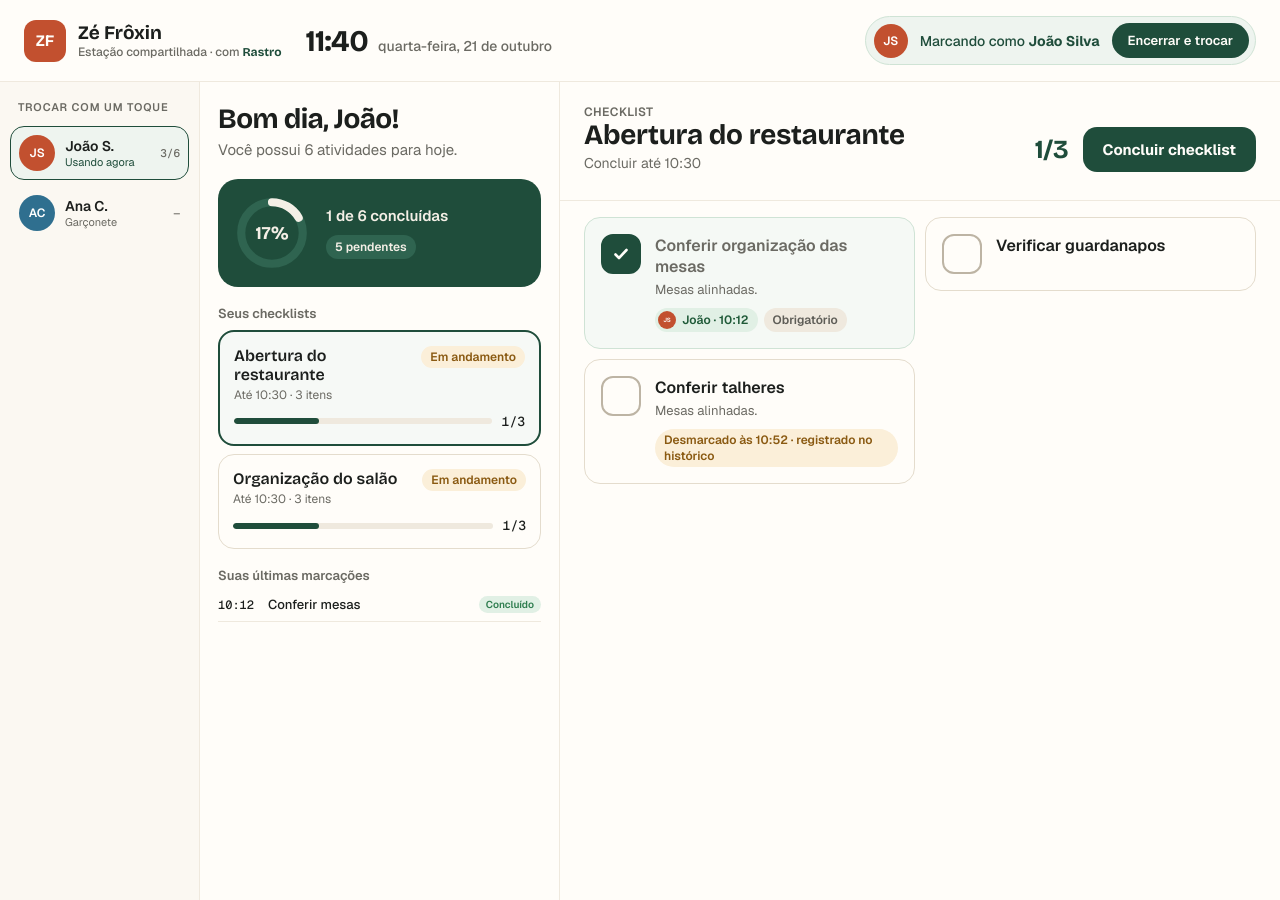
Scenario: US10 — estação de trabalho › selecionar outro checklist carrega a execução dele (sucesso)
The width and height of the screenshot is (1280, 900).
Click the button "Organização do salão Até 10:30 · 3 itens Em andamento 1/3" at (315, 478), box left=218, top=454, right=541, bottom=549
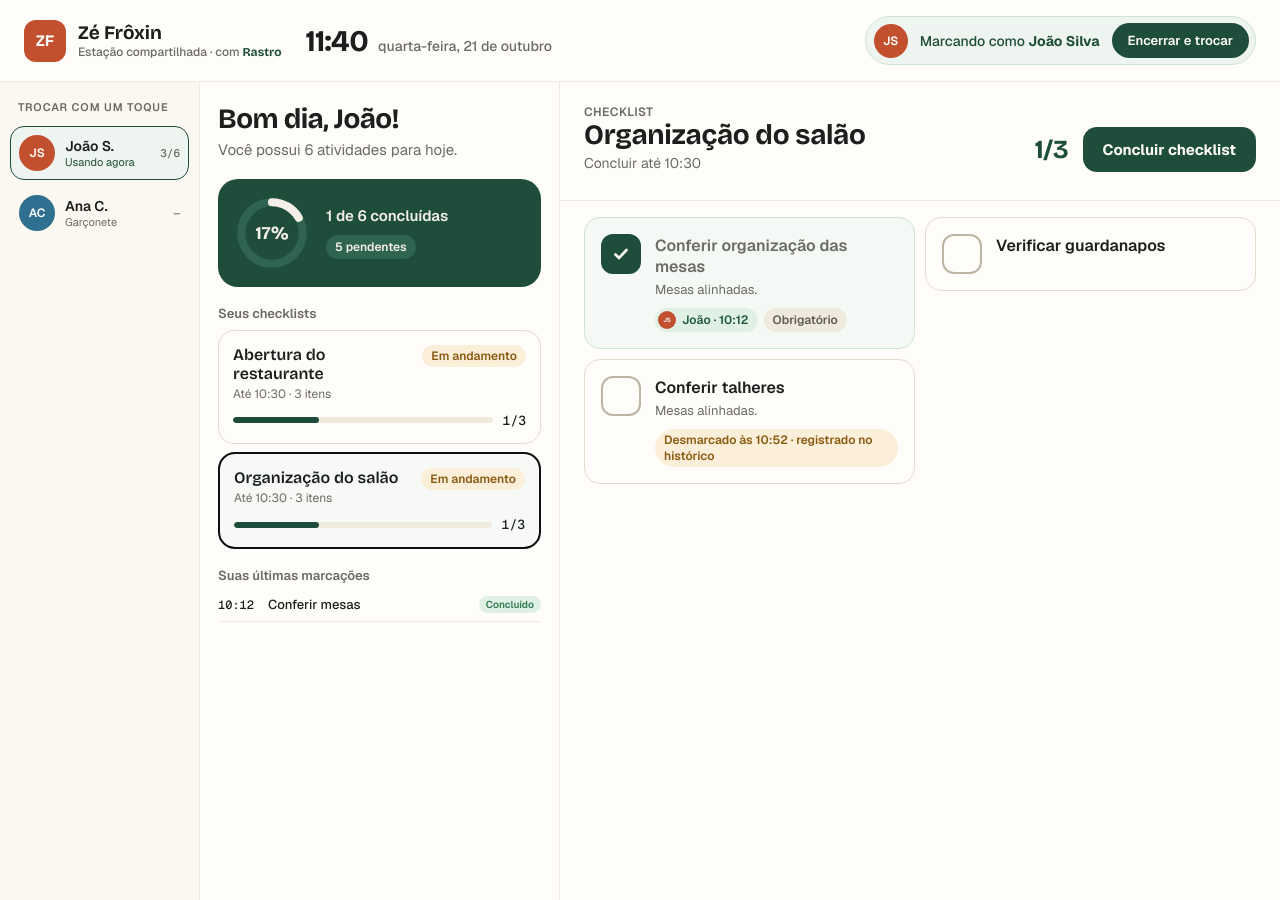
Now the heading "Organização do salão" is shown, box left=584, top=120, right=866, bottom=151
